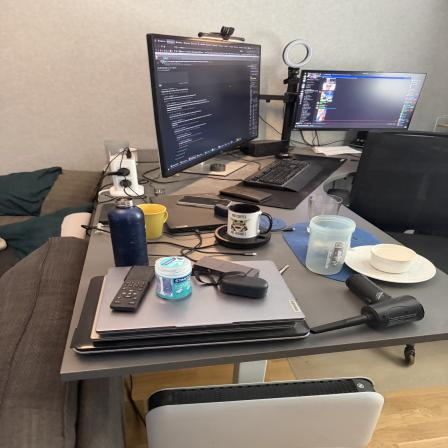blue_bottle: (109, 197, 150, 268)
phone: (219, 184, 275, 203), (179, 193, 231, 210)
yellow_cup: (134, 203, 170, 242)
